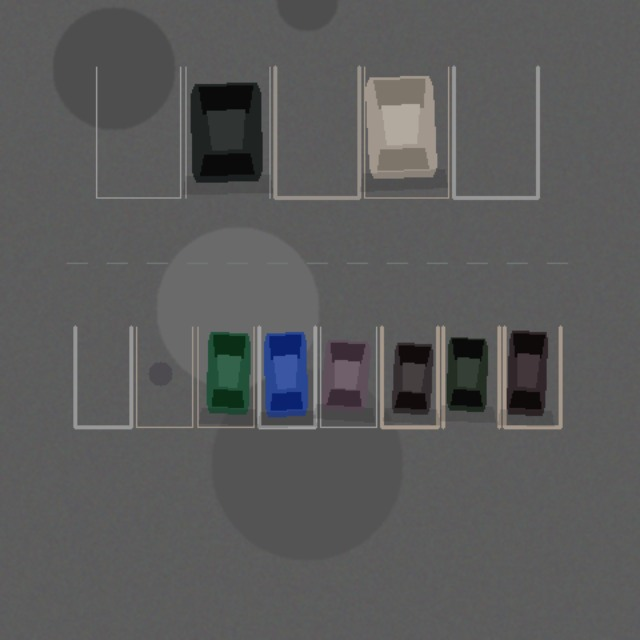space-empty: (96, 67, 180, 197), (275, 67, 359, 197), (453, 67, 537, 197), (75, 327, 131, 427), (136, 327, 192, 427)
space-occupied: (185, 67, 269, 197), (364, 67, 448, 197), (197, 327, 253, 427), (259, 327, 315, 427), (320, 327, 376, 427), (381, 327, 437, 427), (443, 327, 499, 427), (504, 327, 560, 427)
